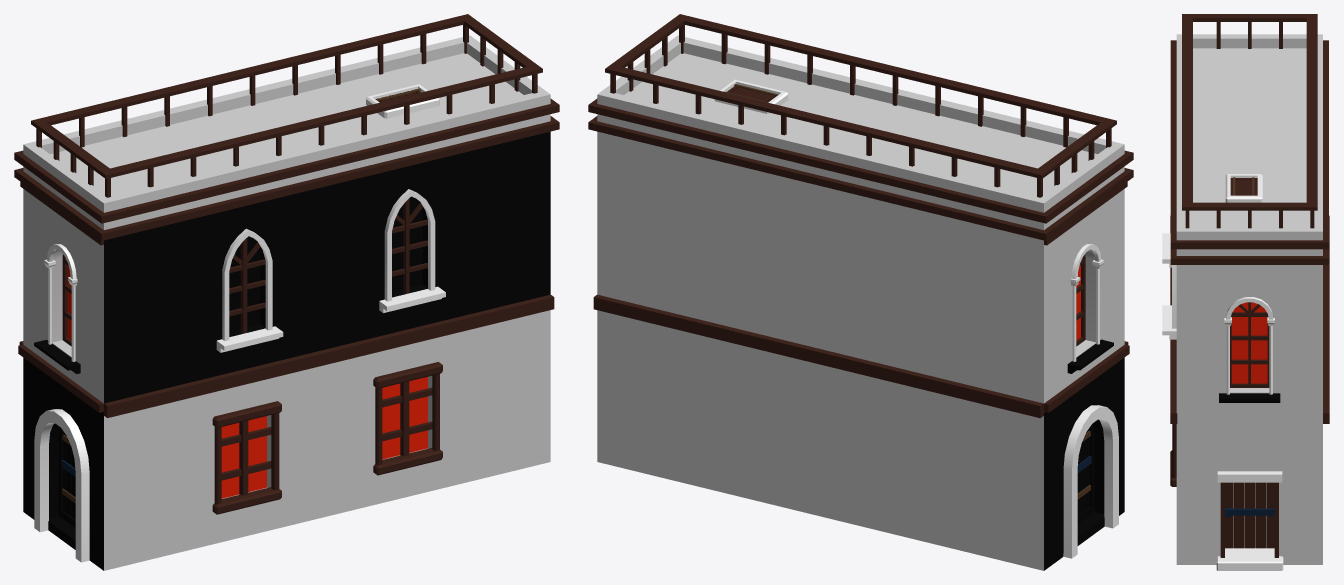
The model's file is civilian_house_36_c.FBX.
The picture shows the model from 3 angles, left to right: view 1: azimuth 30°, elevation 25°; view 2: azimuth 150°, elevation 25°; view 3: azimuth 270°, elevation 25°; orthographic projection. The views are drawn at different scales.
Visible parts, largest first — view 1: civilian_house_36_c; view 2: civilian_house_36_c; view 3: civilian_house_36_c.
Boxes of the visible parts, <box> form: civilian_house_36_c: <box>14,14,559,570</box>; civilian_house_36_c: <box>588,14,1133,570</box>; civilian_house_36_c: <box>1162,14,1329,570</box>.
Bounding box in the file's own units: 1059 × 839 × 357.
